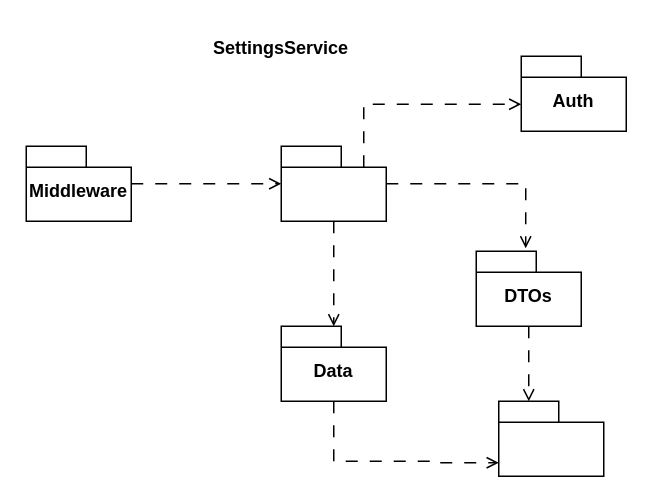
Some shapes in this 653 by 503 pixel diagram are drawn without their labels. Each missing label, with the box of its shape:
Controllers: (280, 145, 386, 221)
Models: (497, 400, 604, 476)
